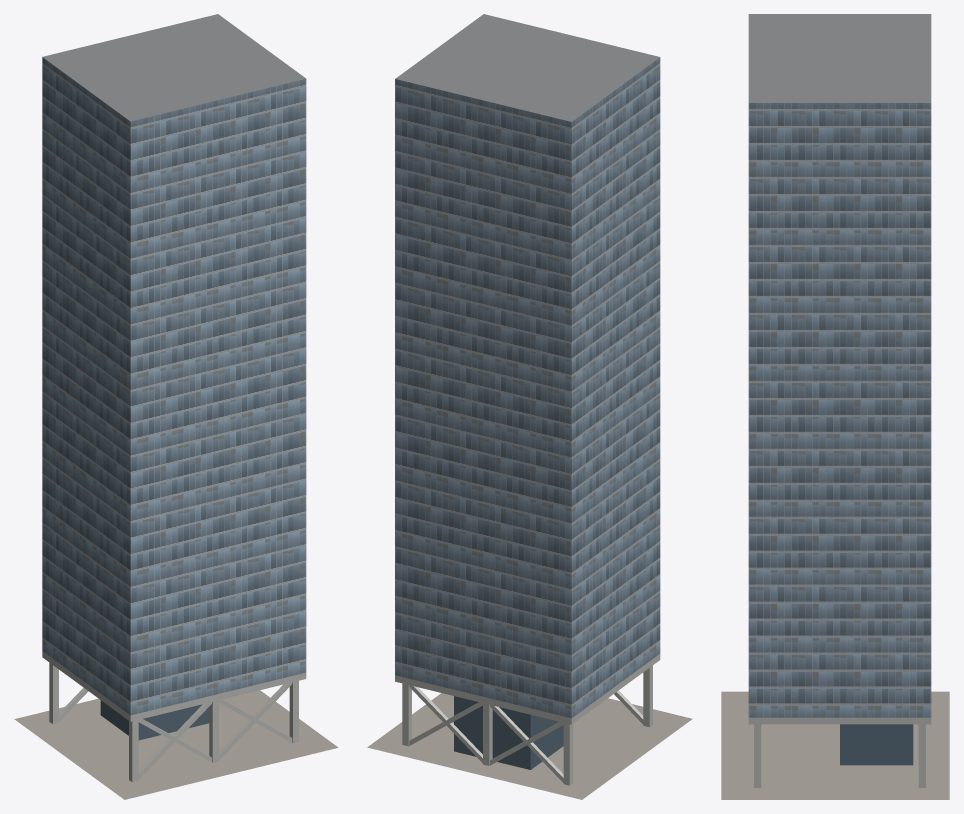
File: two_and_u.glb
The picture shows the model from 3 angles, left to right: view 1: azimuth 30°, elevation 25°; view 2: azimuth 150°, elevation 25°; view 3: azimuth 270°, elevation 25°; orthographic projection. The views are drawn at different scales.
Visible parts, largest first — view 1: two_and_u; view 2: two_and_u; view 3: two_and_u.
Part boxes in pixels (bbox=[...]): two_and_u: bbox=[14, 14, 338, 799]; two_and_u: bbox=[367, 14, 692, 799]; two_and_u: bbox=[721, 14, 949, 799].
Bounding box in the file's own units: 56.01 × 166 × 49.99.
Materials: 2 (2 with a texture image).
